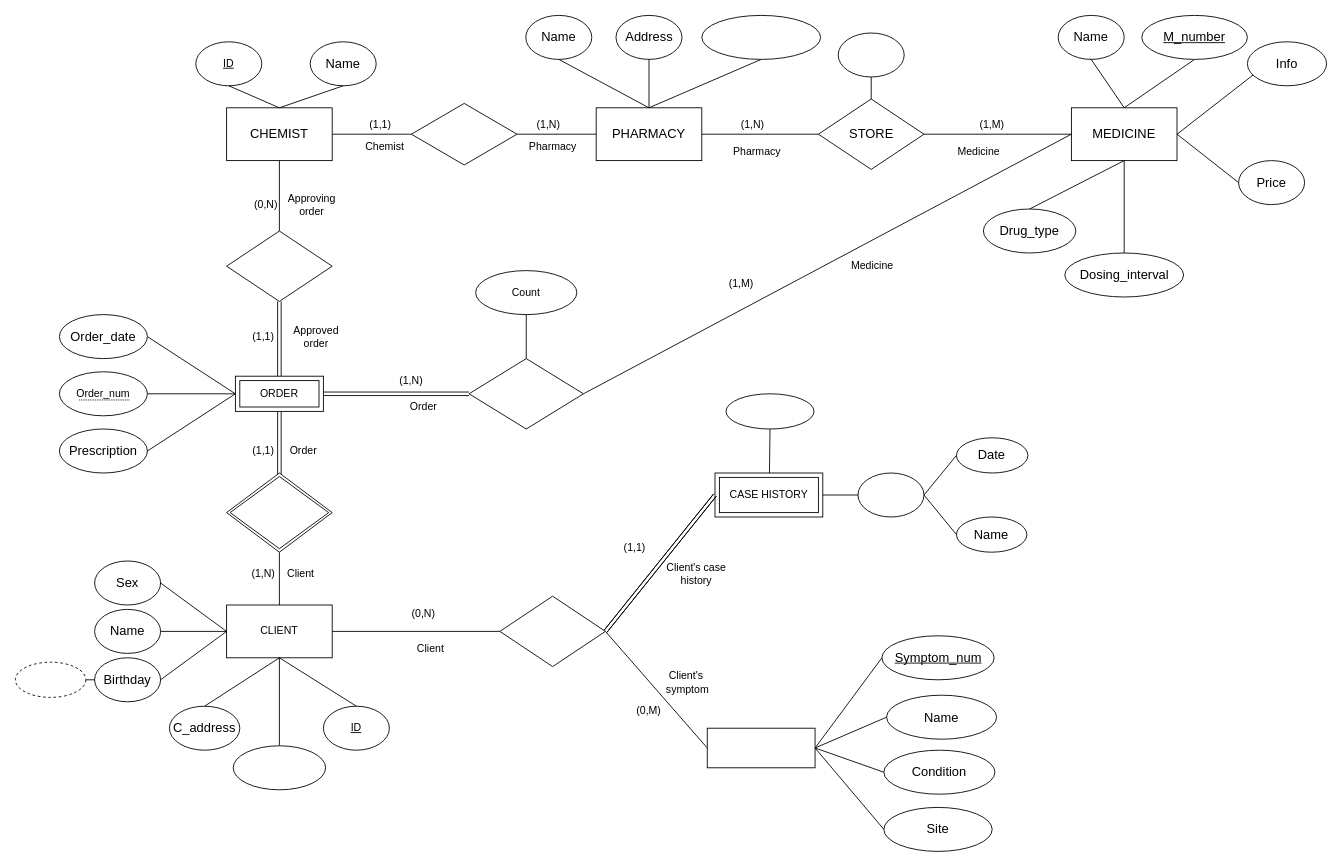
Image size: 1342x867. Some labels were removed from this diagram. The centre of each missing label's shape, as x and y in pixels:
"Age" belongs at point 50,679.
"APPROVE" belongs at point 279,265.
"Case_num" belongs at point 769,411.
"CONTAIN" belongs at point 525,393.
"HAVE" belongs at point 552,631.
"Pharmacy_num" belongs at point 761,37.
"Phone_num" belongs at point 279,767.
"Record" belongs at point 890,494.
"REQUEST" belongs at point 279,512.
"Stock" belongs at point 870,54.
"SYMPTOM" belongs at point 760,747.
"WORKS_FOR" belongs at point 464,134.
